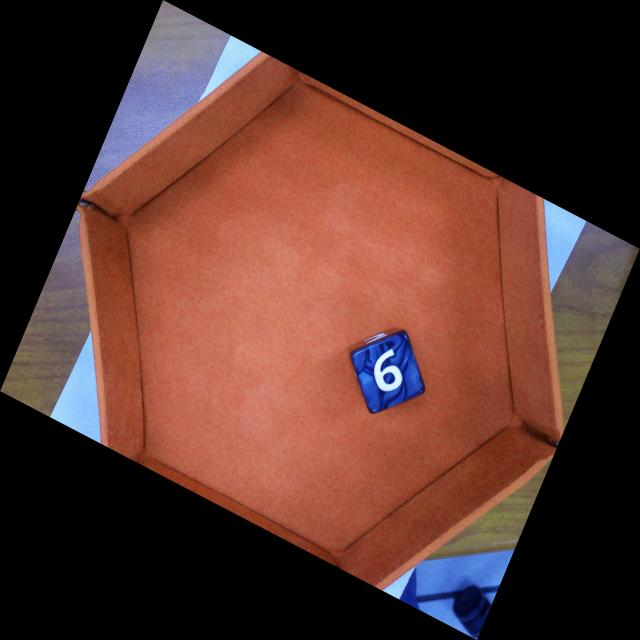dice: (351, 326, 426, 415)
